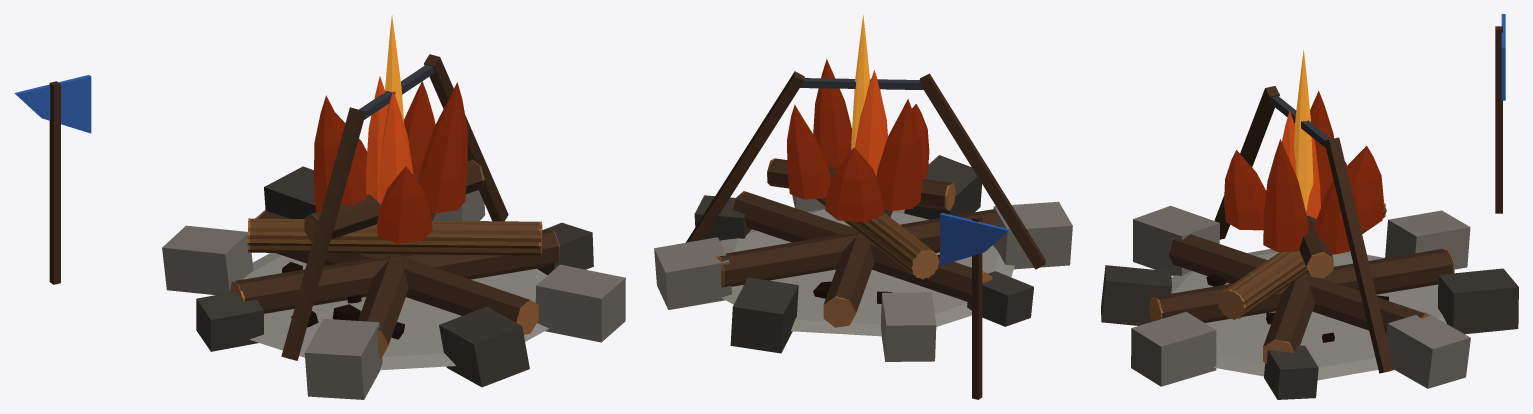
The picture shows the model from 3 angles, left to right: view 1: azimuth 30°, elevation 25°; view 2: azimuth 150°, elevation 25°; view 3: azimuth 270°, elevation 25°; orthographic projection. The views are drawn at different scales.
Parts seen in each view (by area): view 1: BF-主体, BF-自发光, BF-team; view 2: BF-主体, BF-自发光, BF-team; view 3: BF-主体, BF-自发光, BF-team.
Part boxes in pixels (bbox=[...]): BF-主体: bbox=[49, 54, 625, 399]; BF-自发光: bbox=[282, 15, 467, 339]; BF-team: bbox=[14, 75, 91, 133]; BF-主体: bbox=[654, 71, 1072, 399]; BF-自发光: bbox=[787, 15, 939, 303]; BF-team: bbox=[940, 213, 1009, 265]; BF-主体: bbox=[1101, 26, 1518, 399]; BF-自发光: bbox=[1206, 50, 1388, 342]; BF-team: bbox=[1501, 14, 1505, 100].
Size of the model in its own units: 3.17 by 1.96 by 2.72.
3 materials, 2 textured.
